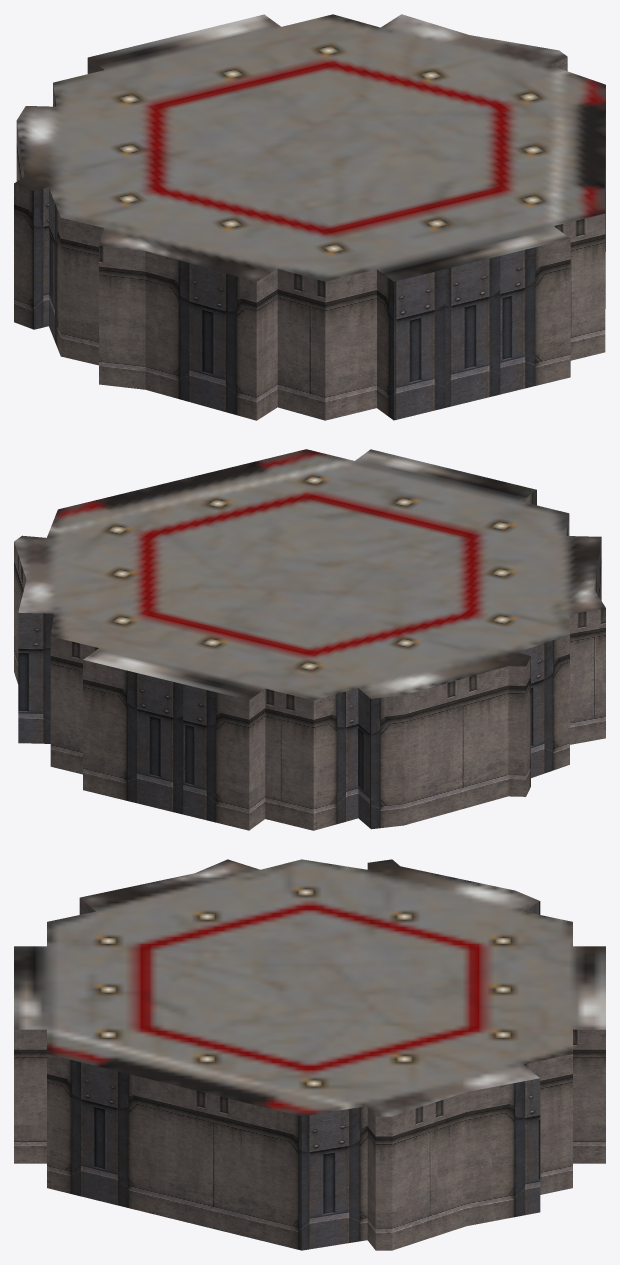
The model's file is bsealed_medium_68.glb.
The picture shows the model from 3 angles, top to bottom: view 1: azimuth 30°, elevation 25°; view 2: azimuth 150°, elevation 25°; view 3: azimuth 270°, elevation 25°; orthographic projection. The views are drawn at different scales.
Parts seen in each view (by area): view 1: buildings/saxarba/bsealed_medium/bsealed_medium_68; view 2: buildings/saxarba/bsealed_medium/bsealed_medium_68; view 3: buildings/saxarba/bsealed_medium/bsealed_medium_68.
Part boxes in pixels (x1,y1,x2,y2): buildings/saxarba/bsealed_medium/bsealed_medium_68: (14, 14, 605, 420); buildings/saxarba/bsealed_medium/bsealed_medium_68: (14, 449, 605, 830); buildings/saxarba/bsealed_medium/bsealed_medium_68: (14, 859, 605, 1250).
Bounding box in the file's own units: 74 × 18 × 72.
